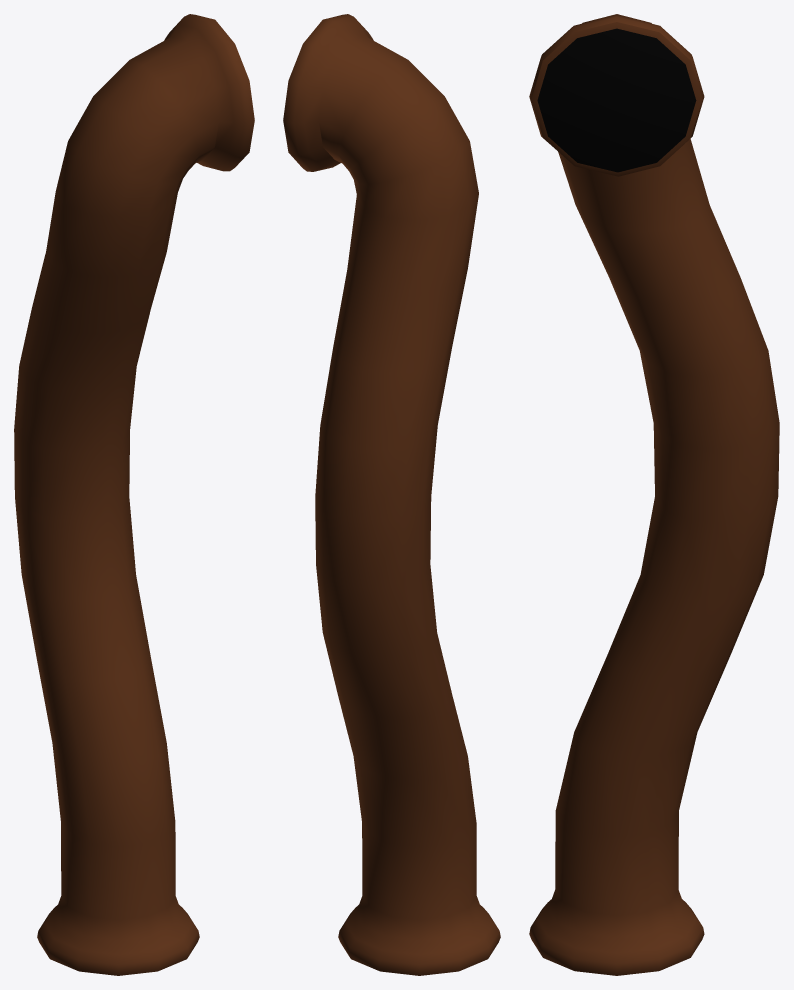
The model's file is Pipe_Curve_05x05_4m_Bent_L.fbx.
3 views of the same model, side by side, from view 1: azimuth 30°, elevation 25°; view 2: azimuth 150°, elevation 25°; view 3: azimuth 270°, elevation 25° (orthographic). The views are drawn at different scales.
Visible parts, largest first — view 1: Pipe_Curve_05x05_4m_Bent_L; view 2: Pipe_Curve_05x05_4m_Bent_L; view 3: Pipe_Curve_05x05_4m_Bent_L.
Part boxes in pixels (box(x1,y1,x2,y2)): Pipe_Curve_05x05_4m_Bent_L: box(14, 14, 254, 975); Pipe_Curve_05x05_4m_Bent_L: box(283, 14, 500, 975); Pipe_Curve_05x05_4m_Bent_L: box(529, 14, 779, 975).
Size of the model in its own units: 85.53 by 436 by 102.
